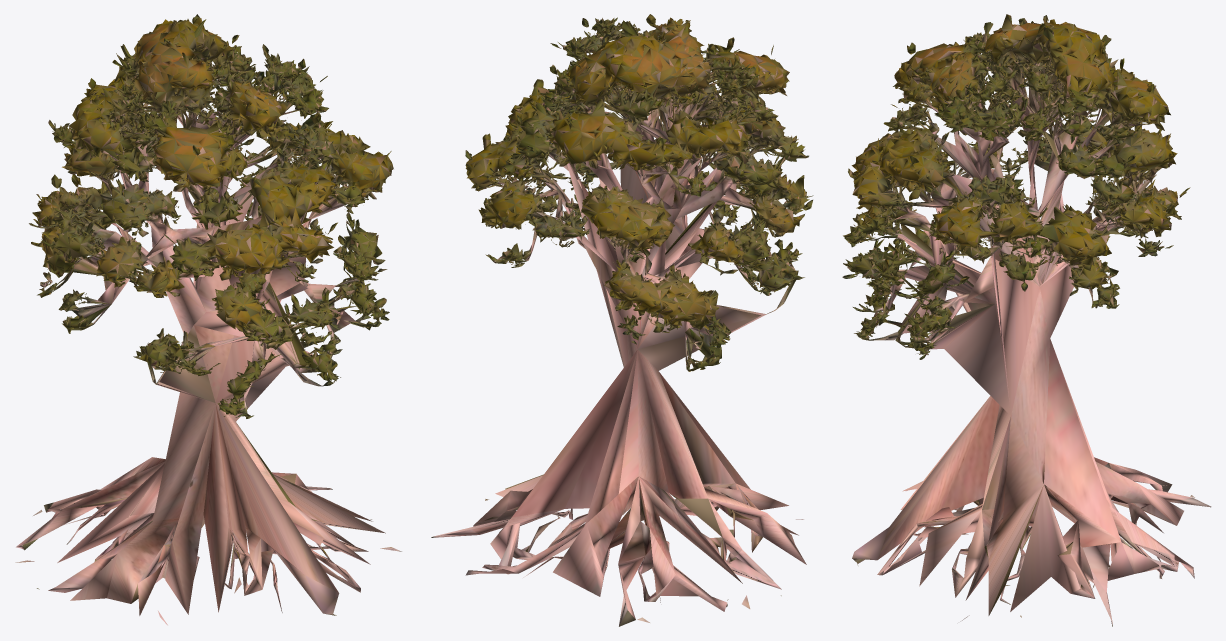
The model's file is Metaphor_The_Tree_of.glb.
3 renders of one model, left to right at view 1: azimuth 30°, elevation 25°; view 2: azimuth 150°, elevation 25°; view 3: azimuth 270°, elevation 25°, orthographic. The views are drawn at different scales.
Visible parts, largest first — view 1: Metaphor_The_Tree_of; view 2: Metaphor_The_Tree_of; view 3: Metaphor_The_Tree_of.
Part boxes in pixels (<box>): Metaphor_The_Tree_of: <box>15,14,401,625</box>; Metaphor_The_Tree_of: <box>431,14,813,626</box>; Metaphor_The_Tree_of: <box>842,14,1211,626</box>.
Size of the model in its own units: 1.26 by 2 by 1.27.
Materials: 1 (1 with a texture image).
